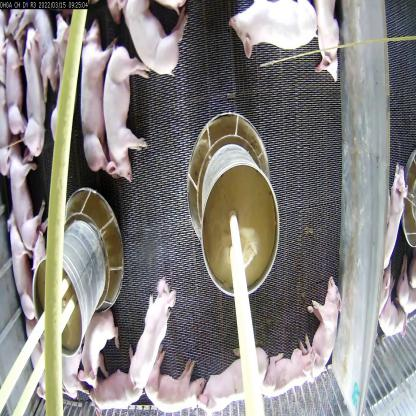Pig: (99, 36, 143, 173), (222, 0, 322, 59), (119, 0, 185, 82), (298, 267, 342, 381), (15, 27, 49, 164), (77, 17, 109, 159), (126, 278, 171, 378), (211, 344, 271, 415), (255, 334, 317, 402), (3, 153, 40, 254), (71, 299, 117, 378), (150, 359, 213, 415), (99, 360, 155, 415), (8, 218, 36, 316)
